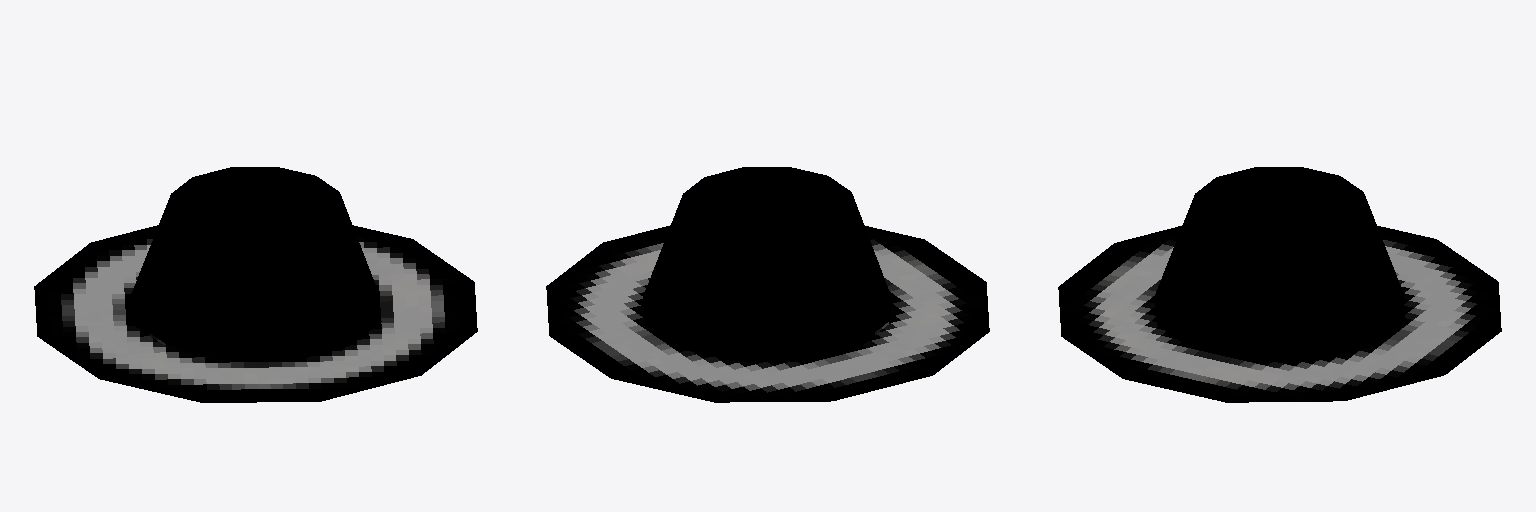
3 views of the same model, side by side, from view 1: azimuth 30°, elevation 25°; view 2: azimuth 150°, elevation 25°; view 3: azimuth 270°, elevation 25° (orthographic).
Visible parts, largest first — view 1: Metal_Disk_03_low; view 2: Metal_Disk_03_low; view 3: Metal_Disk_03_low.
Part boxes in pixels (x1,y1,x2,y2): Metal_Disk_03_low: (34,167,477,402); Metal_Disk_03_low: (546,167,989,402); Metal_Disk_03_low: (1058,167,1501,402).
Size of the model in its own units: 0.5417 by 0.144 by 0.5417.
Materials: 1 (1 with a texture image).